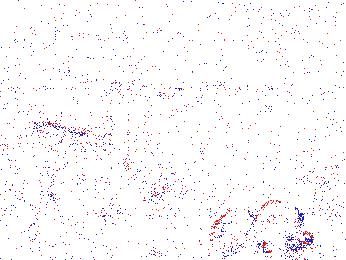flame jellyfish: (121, 135, 171, 204), (254, 200, 316, 252), (208, 208, 273, 256)
